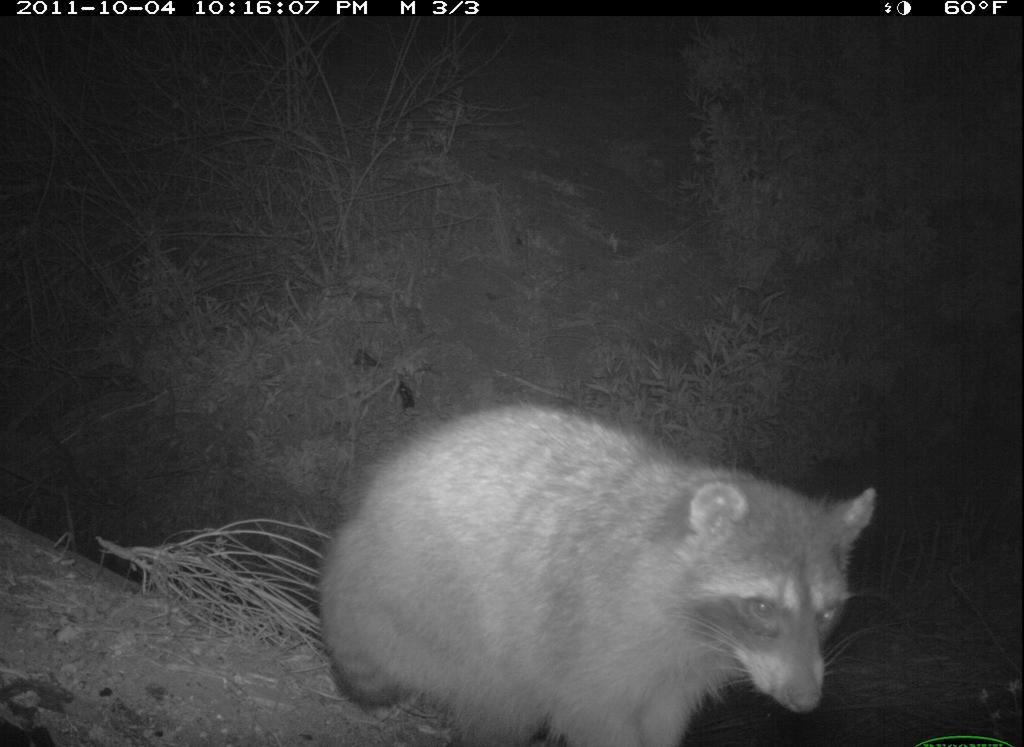raccoon: (322, 402, 881, 745)
